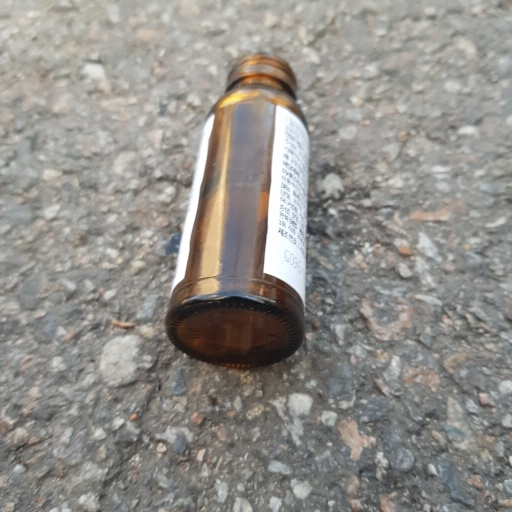Glass_3: (159, 54, 312, 369)
